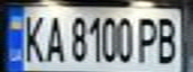0: (115, 12, 136, 64), (100, 12, 118, 64)
1: (84, 12, 103, 63)
8: (66, 12, 87, 62)
A: (42, 11, 69, 64)
B: (151, 12, 184, 66)
K: (18, 10, 48, 64)
P: (133, 12, 163, 65)
